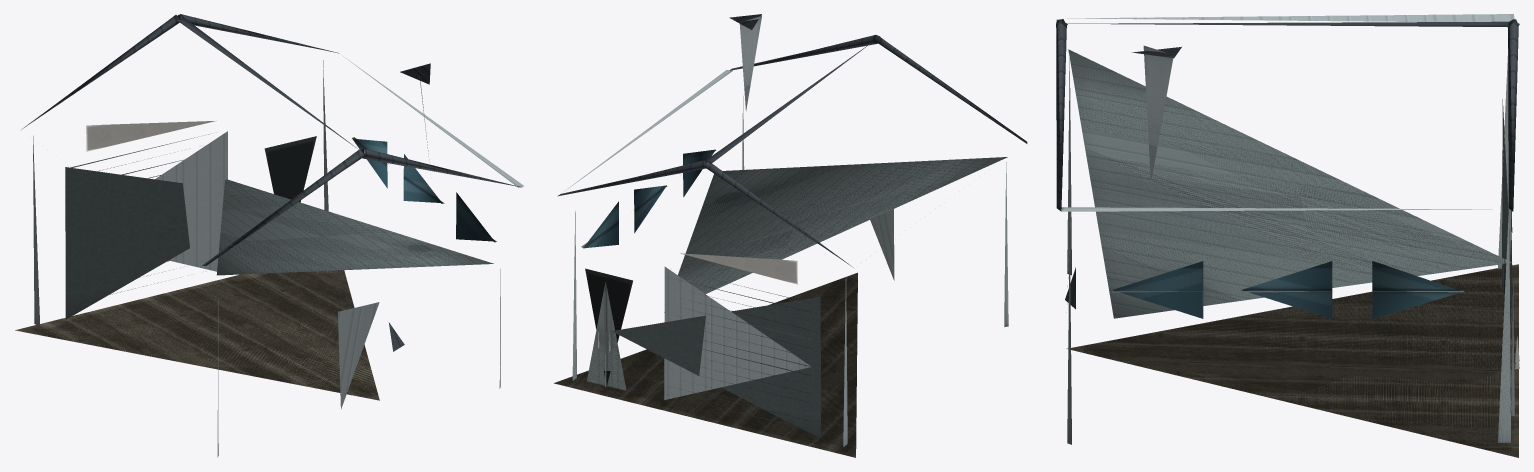
The model's file is factory_001.lod2.obj.
3 views of the same model, side by side, from view 1: azimuth 30°, elevation 25°; view 2: azimuth 150°, elevation 25°; view 3: azimuth 270°, elevation 25° (orthographic). The views are drawn at different scales.
Visible parts, largest first — view 1: factory_001; view 2: factory_001; view 3: factory_001.
Boxes of the visible parts, <box> form: factory_001: <box>15,14,524,457</box>; factory_001: <box>554,14,1027,457</box>; factory_001: <box>1056,14,1519,457</box>.
Size of the model in its own units: 6.43 by 5.72 by 6.47.
Materials: 1 (1 with a texture image).
